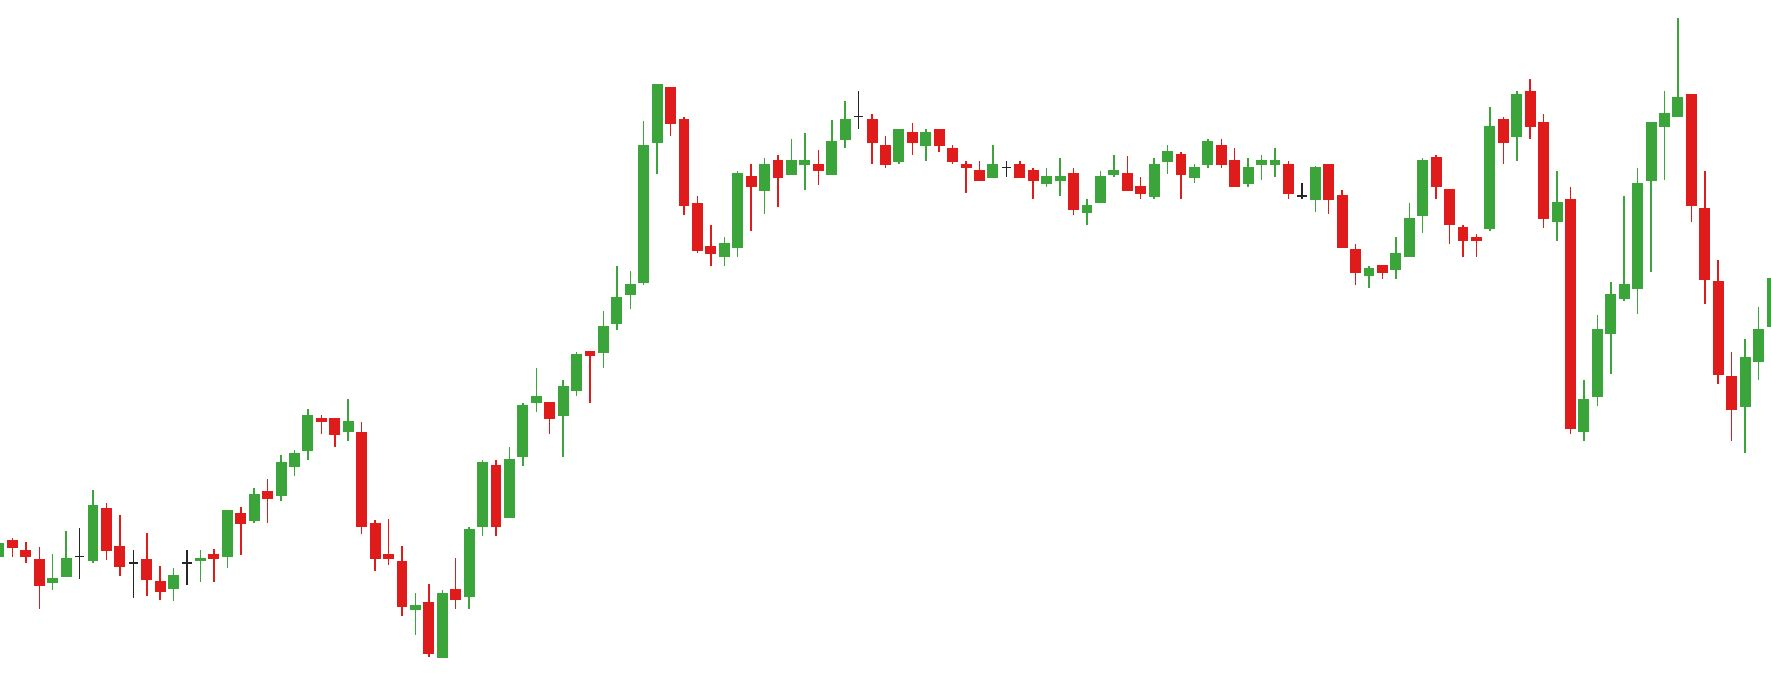buy: (1576, 250, 1752, 454)
sell: (1523, 18, 1684, 196)
